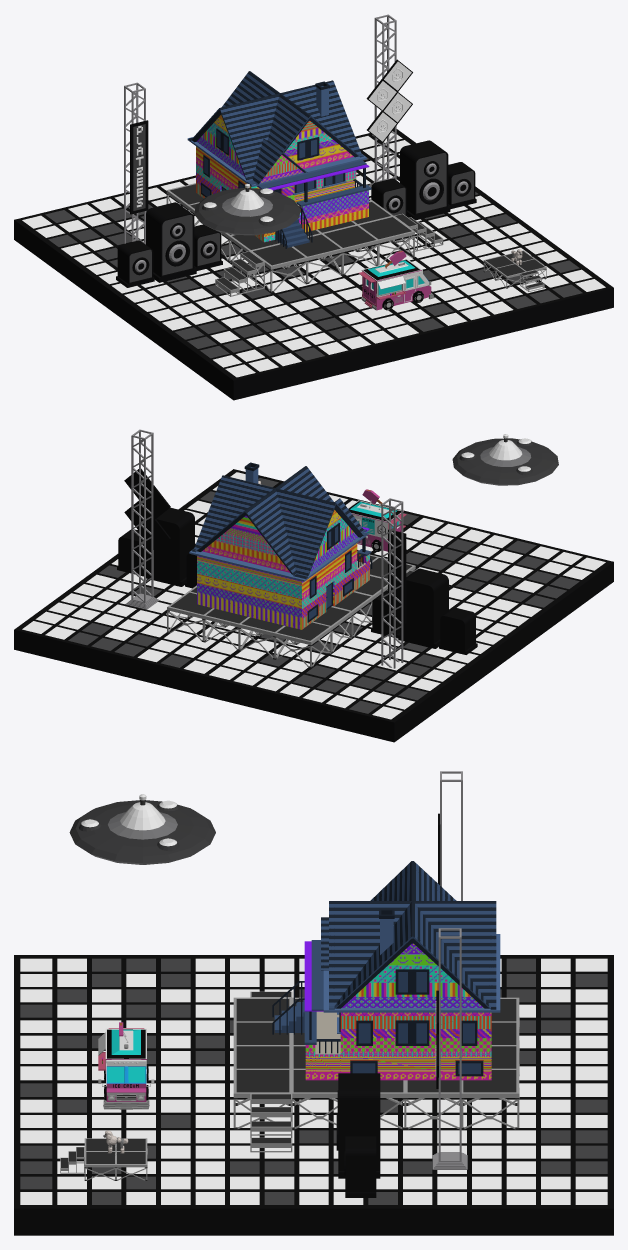
3 renders of one model, top to bottom at view 1: azimuth 30°, elevation 25°; view 2: azimuth 150°, elevation 25°; view 3: azimuth 270°, elevation 25°, orthographic. The views are drawn at different scales.
Parts seen in each view (by area): view 1: Cube.008, Cube.676, OBJRANDOM_UFO, VEHICLES_ICE_CREAM_TRUCK; view 2: Cube.008, Cube.676, OBJRANDOM_UFO, VEHICLES_ICE_CREAM_TRUCK; view 3: Cube.008, Cube.676, OBJRANDOM_UFO, VEHICLES_ICE_CREAM_TRUCK.
Boxes of the visible parts, box(x1,y1,x2,y2) form: Cube.008: box(14, 14, 613, 400); Cube.676: box(187, 71, 371, 248); OBJRANDOM_UFO: box(194, 183, 300, 235); VEHICLES_ICE_CREAM_TRUCK: box(358, 250, 434, 310); Cube.008: box(14, 429, 613, 742); Cube.676: box(189, 462, 372, 629); OBJRANDOM_UFO: box(452, 434, 558, 485); VEHICLES_ICE_CREAM_TRUCK: box(348, 489, 406, 551); Cube.008: box(14, 771, 613, 1235); Cube.676: box(272, 861, 500, 1080); OBJRANDOM_UFO: box(69, 794, 215, 864); VEHICLES_ICE_CREAM_TRUCK: box(98, 1022, 154, 1109).
Bounding box in the file's own units: 4000 × 1972 × 4000.
Materials: 50 (5 with a texture image).
